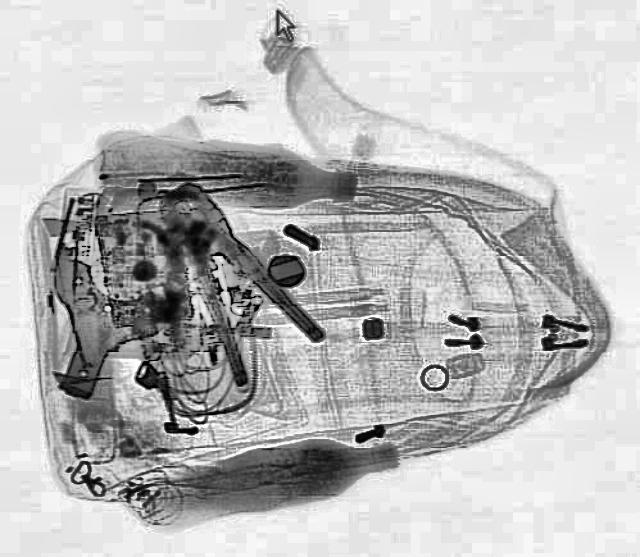Pliers: (124, 168, 333, 386)
